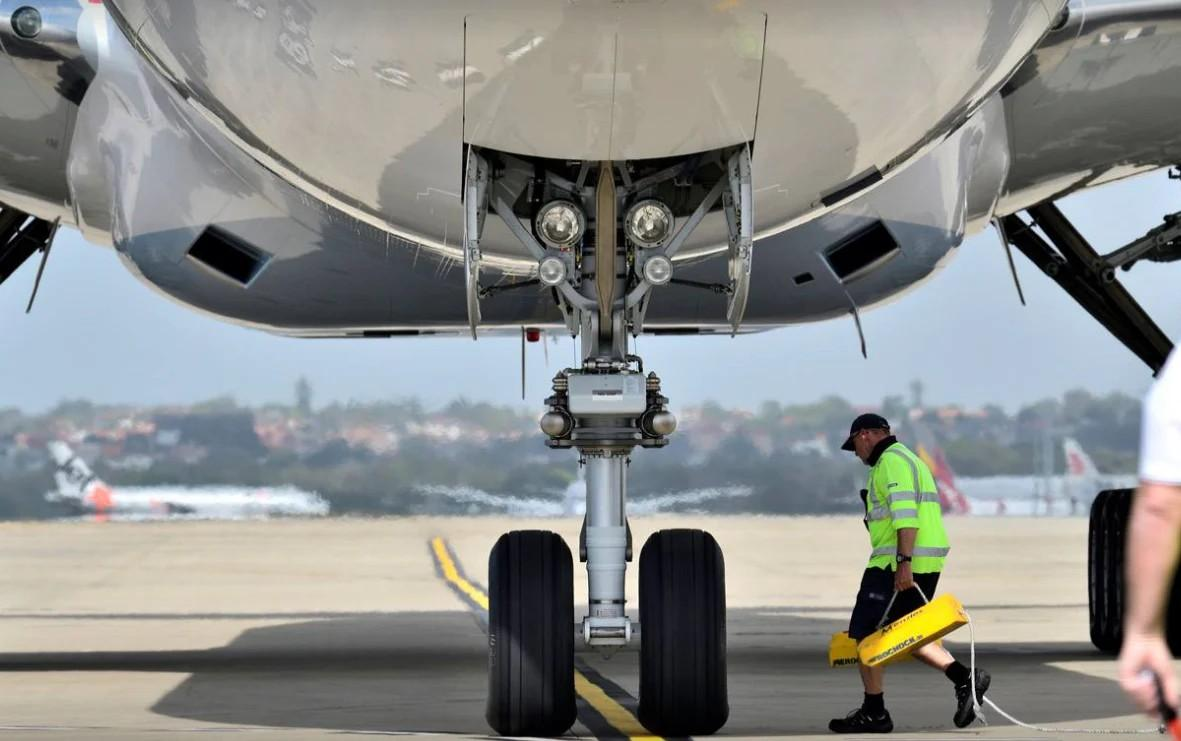chock: (852, 592, 972, 668), (828, 628, 942, 664)
wheel: (636, 528, 728, 735), (483, 529, 574, 735), (1087, 489, 1133, 653)
